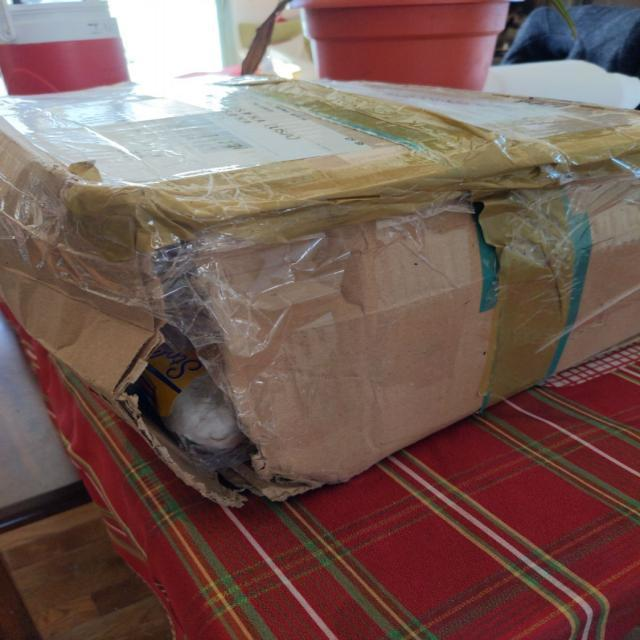damaged: (129, 248, 298, 514)
